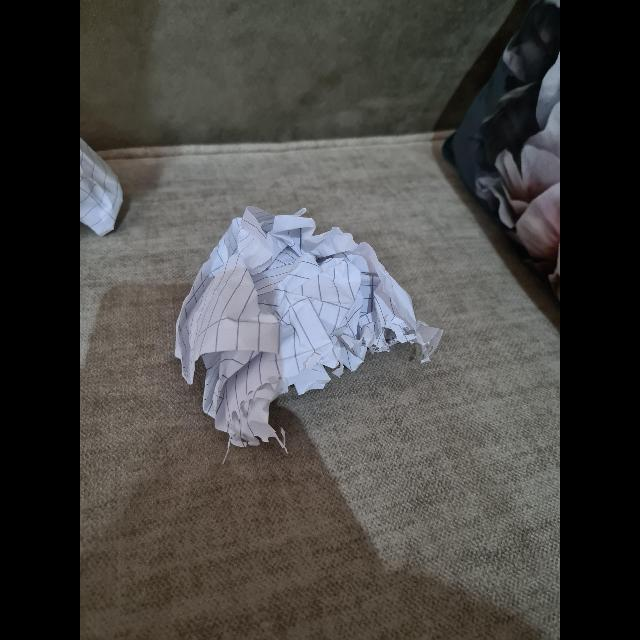trash: (170, 203, 436, 443)
